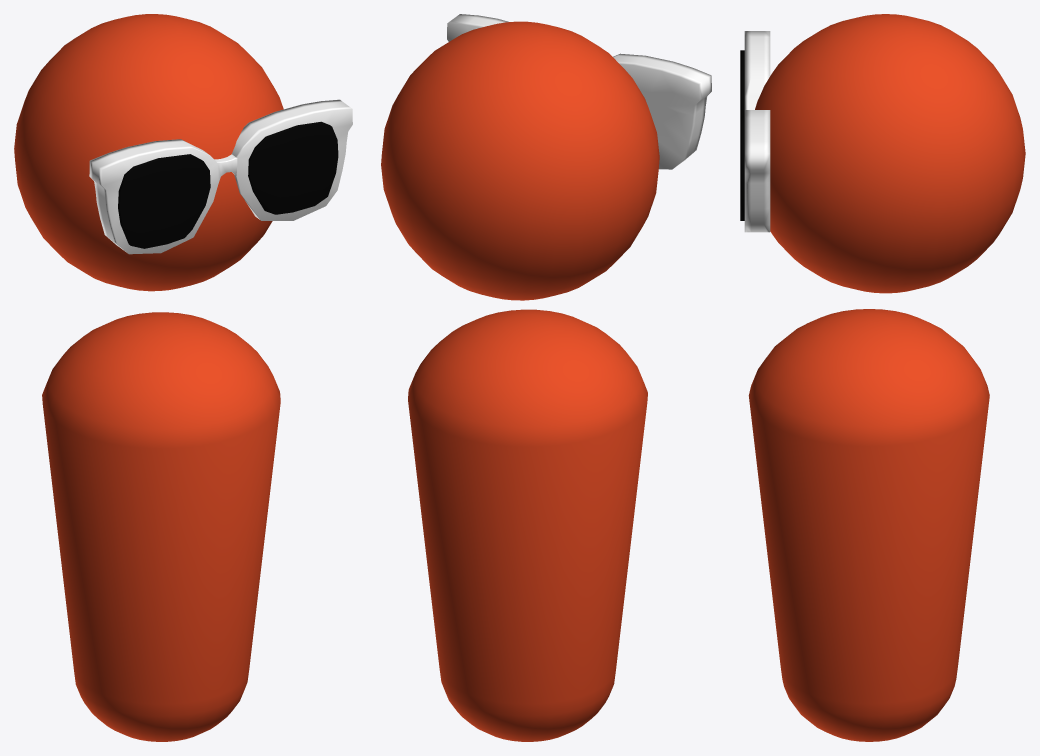
The model's file is userLocation.glb.
3 views of the same model, side by side, from view 1: azimuth 30°, elevation 25°; view 2: azimuth 150°, elevation 25°; view 3: azimuth 270°, elevation 25° (orthographic).
Visible parts, largest first — view 1: Sphere.014, Sphere.015, Cube.040, Cube.041, Cube.038, Cube.039; view 2: Sphere.014, Sphere.015, Cube.038, Cube.039; view 3: Sphere.014, Sphere.015, Cube.039, Cube.038, Cube.041.
Part boxes in pixels (left/top/right/bottom): Sphere.014: left=42, top=312, right=280, bottom=741; Sphere.015: left=14, top=14, right=283, bottom=291; Cube.040: left=118, top=154, right=210, bottom=248; Cube.041: left=248, top=121, right=338, bottom=214; Cube.038: left=89, top=139, right=237, bottom=254; Cube.039: left=232, top=99, right=352, bottom=220; Sphere.014: left=408, top=309, right=647, bottom=741; Sphere.015: left=381, top=21, right=659, bottom=300; Cube.038: left=613, top=53, right=711, bottom=169; Cube.039: left=447, top=14, right=508, bottom=41; Sphere.014: left=748, top=309, right=989, bottom=741; Sphere.015: left=755, top=14, right=1025, bottom=293; Cube.039: left=744, top=110, right=770, bottom=232; Cube.038: left=744, top=31, right=770, bottom=109; Cube.041: left=740, top=117, right=744, bottom=220.
Bounding box in the file's own units: 0.293 × 0.7812 × 0.2866.
